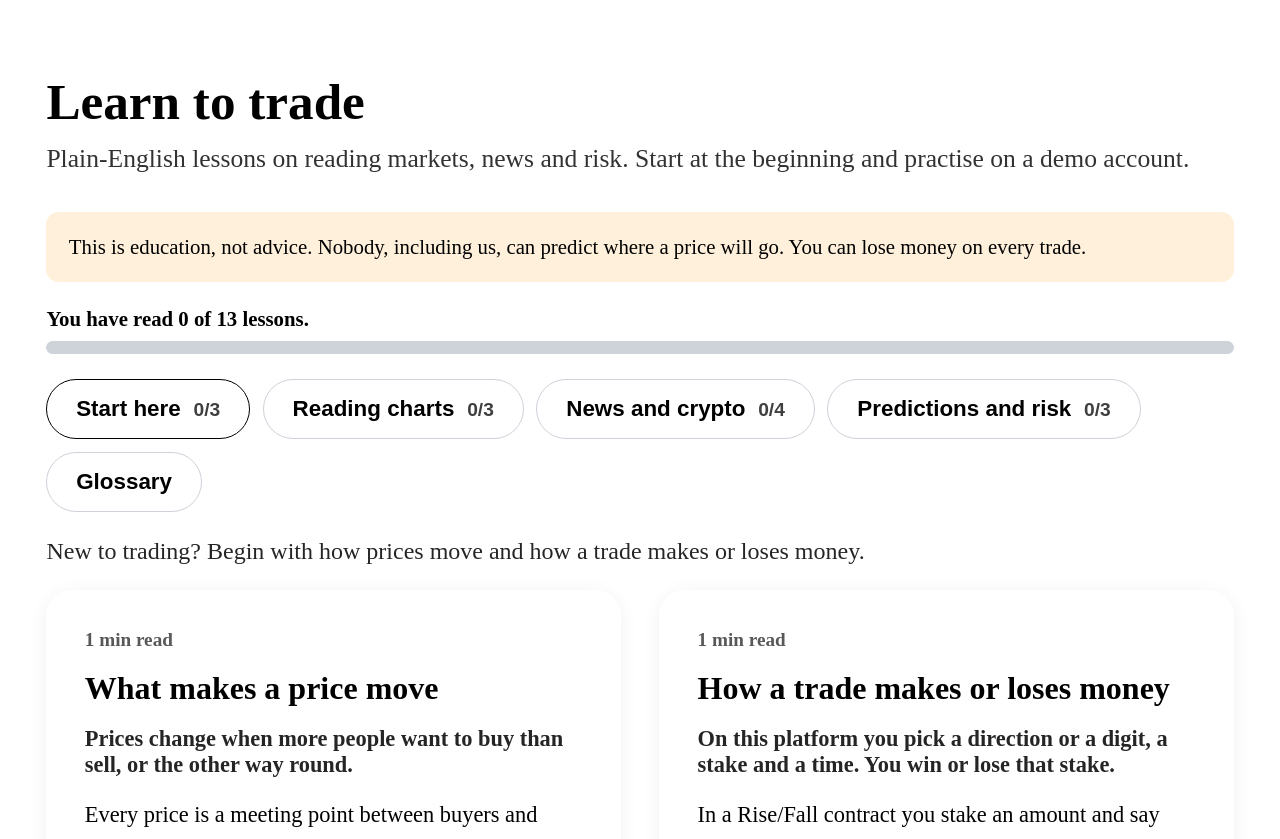
Test case: <Learn /> › filters the glossary and says when nothing matches
The image size is (1280, 839).
Click the tab with test id "dt_learn_tab_glossary" at (124, 482), box x1=46 y1=452 x2=202 y2=512
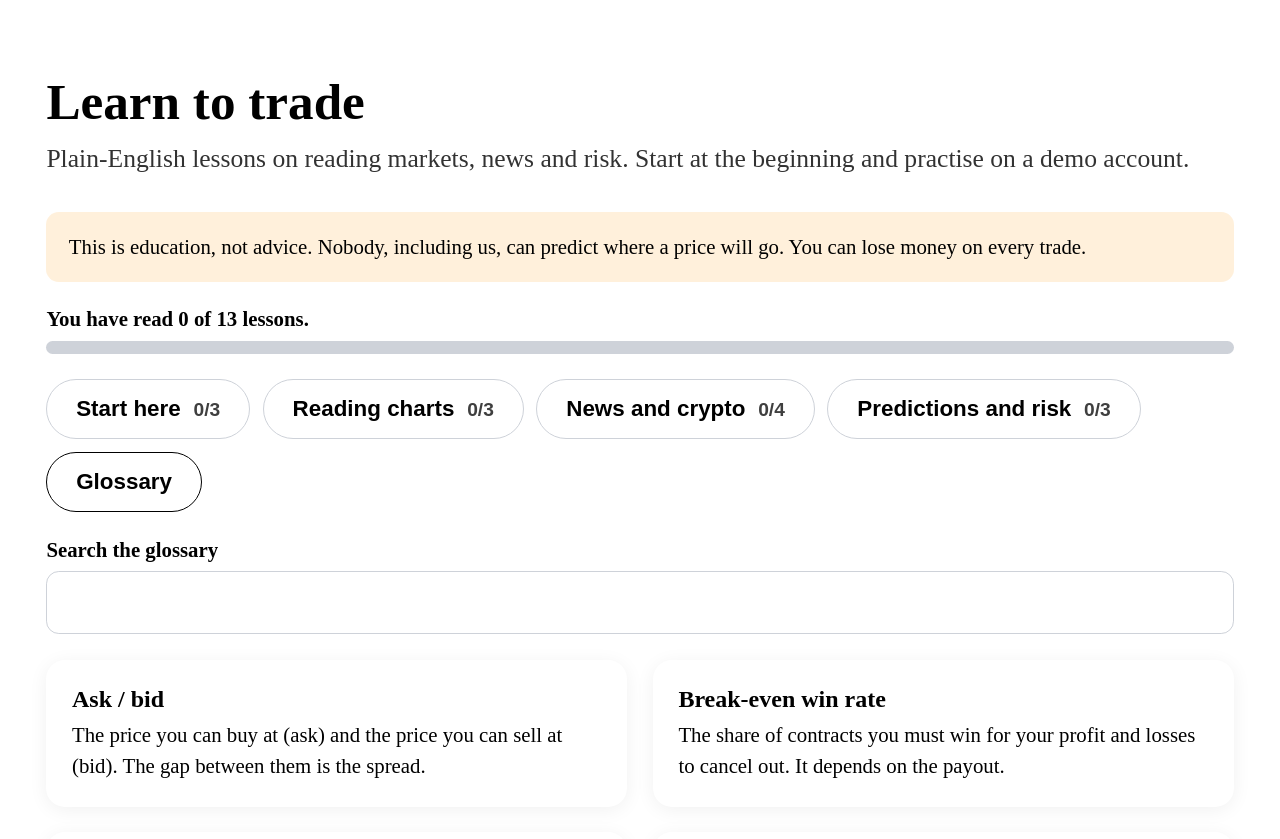
Type "rsi" into the search field with test id "dt_learn_search" at (640, 603), box x1=46 y1=571 x2=1234 y2=634
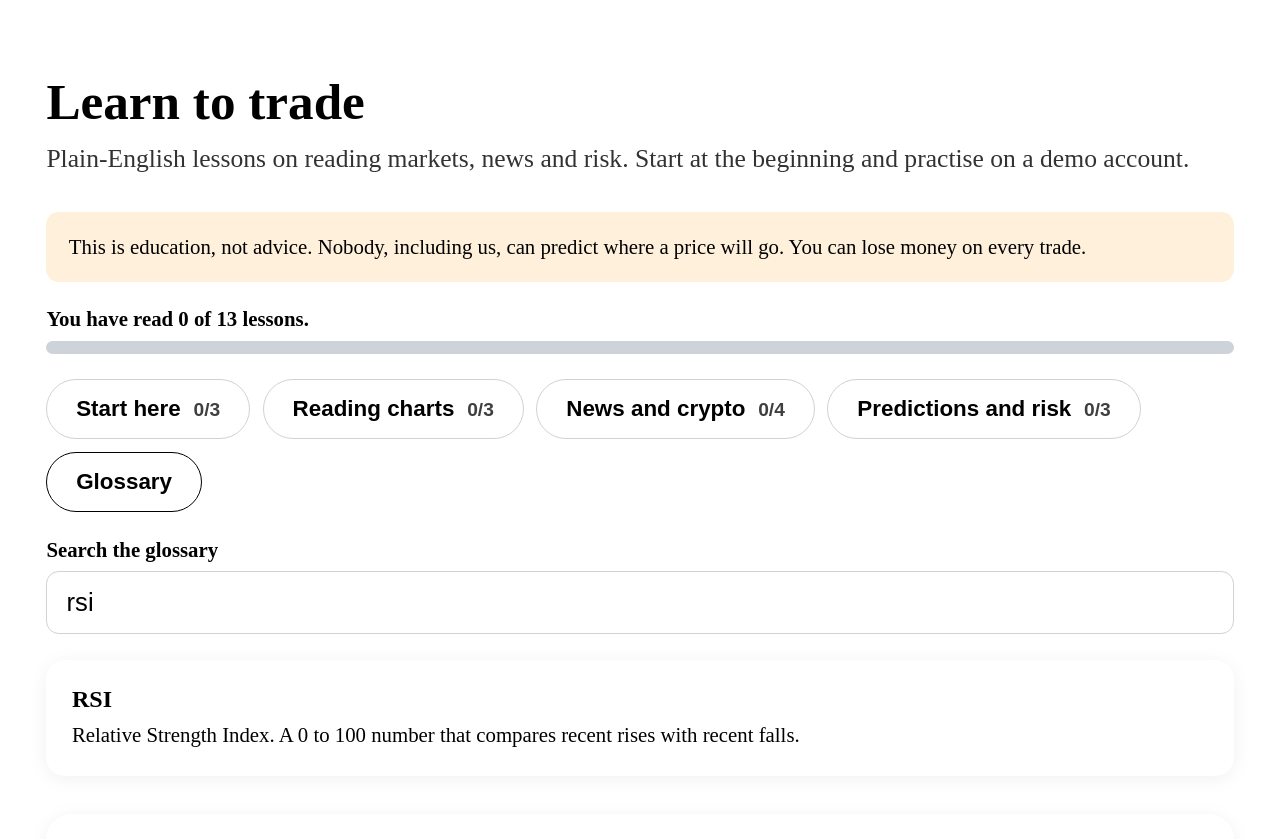
Expected: the text "RSI" is shown, x1=72 y1=686 x2=112 y2=712
Replace the text in the search field with test id "dt_learn_search" with "zzzz" at (640, 603), box x1=46 y1=571 x2=1234 y2=634
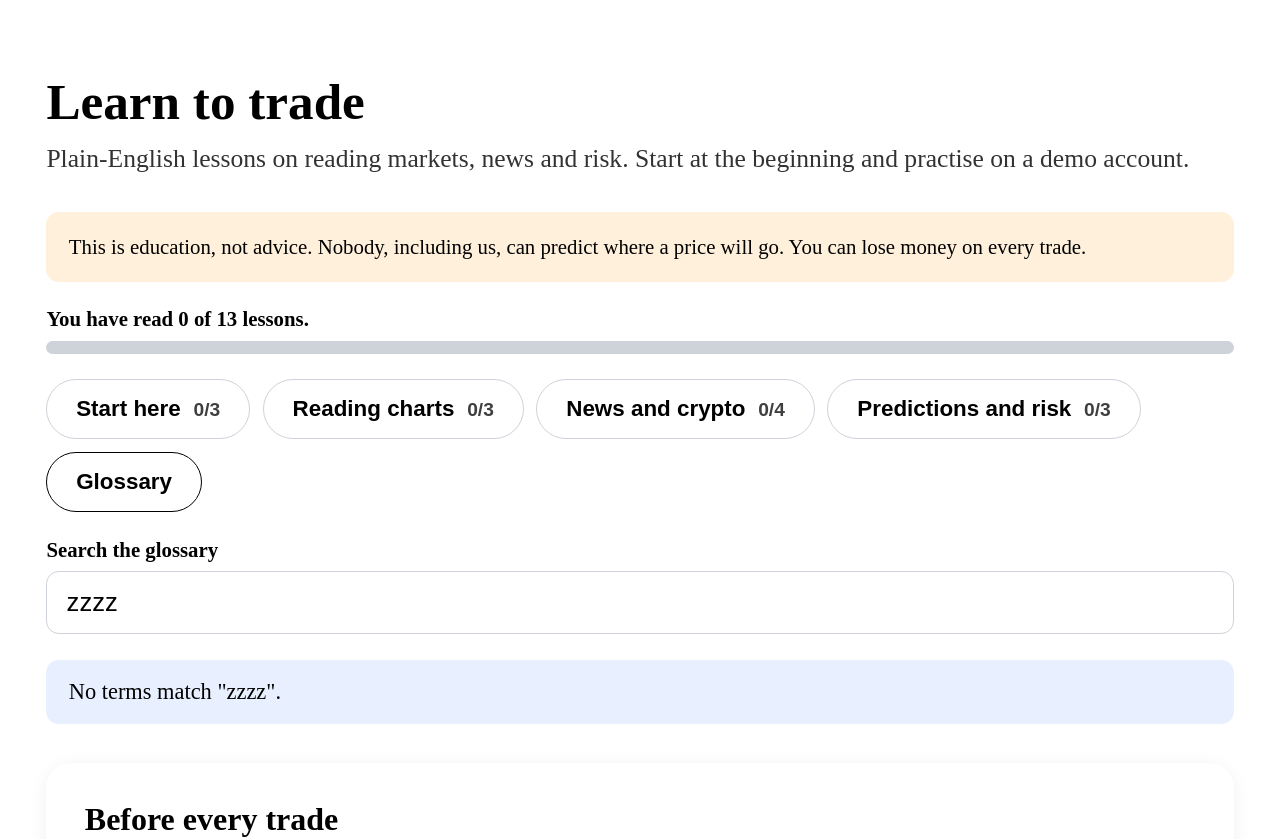
Expected: the text with test id "dt_learn_no_match" reads "No terms match \"zzzz\".", x1=69 y1=679 x2=281 y2=704
